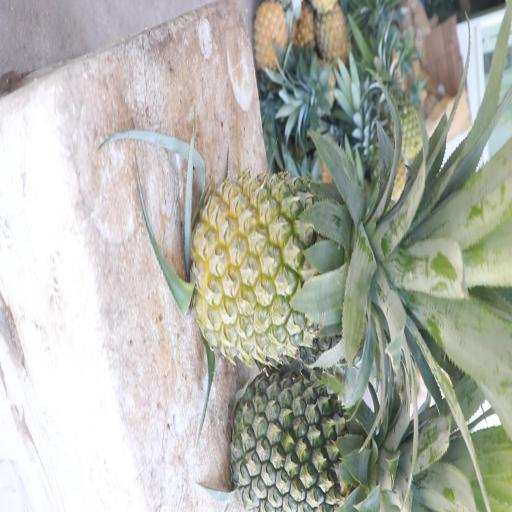Pineapple - v8 v1: (192, 163, 379, 362), (252, 0, 290, 82), (313, 0, 352, 67)
